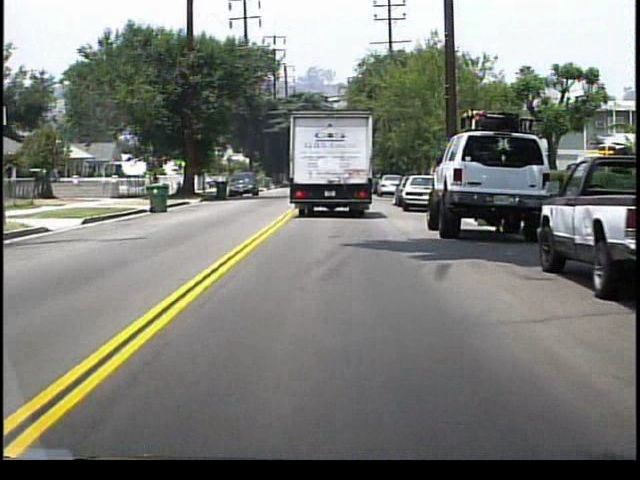person: (151, 169, 162, 196)
